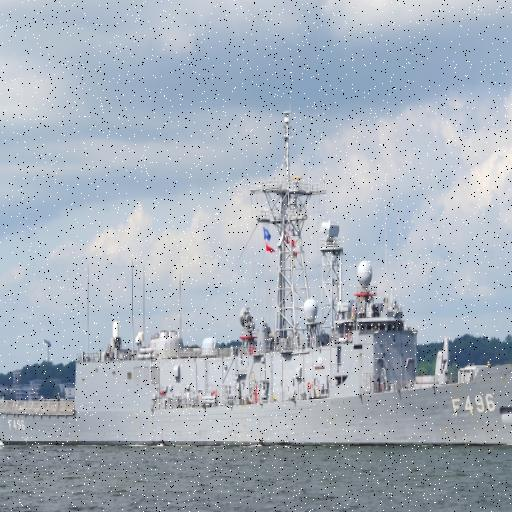Fragata: (1, 97, 512, 451)
